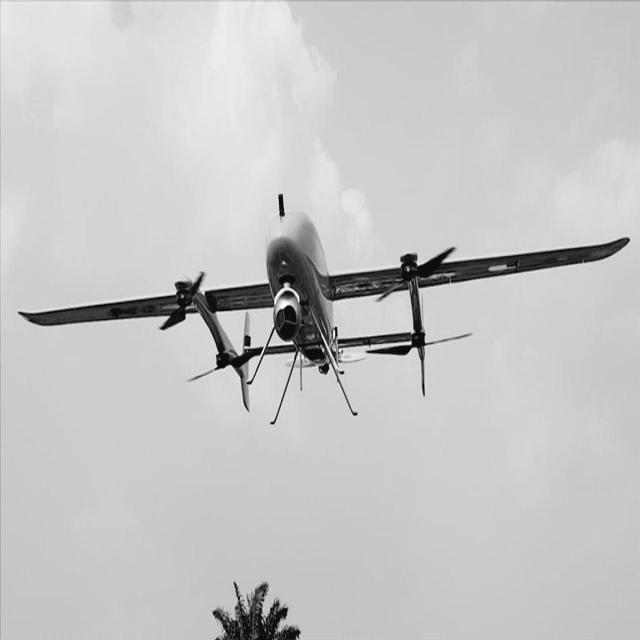iha: (18, 194, 629, 424), (452, 333, 471, 339), (437, 337, 452, 343), (429, 341, 437, 345), (450, 336, 454, 340)
